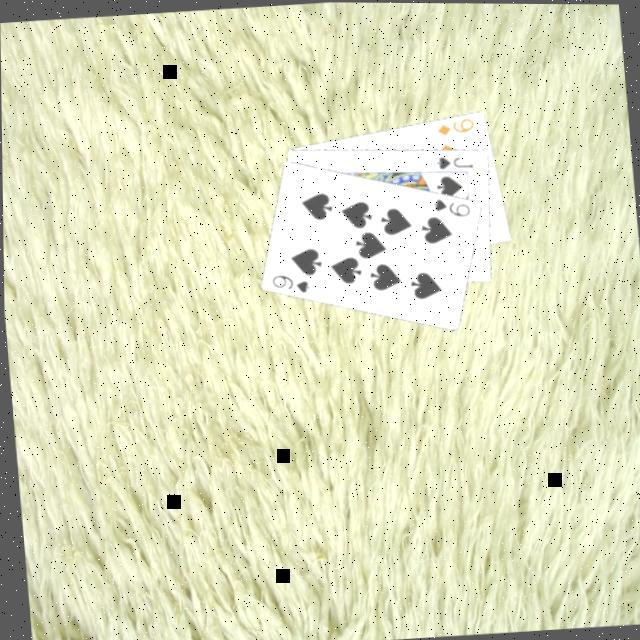9D: (434, 114, 477, 139)
9S: (429, 192, 473, 220), (268, 269, 312, 297)
JS: (433, 151, 476, 172)
